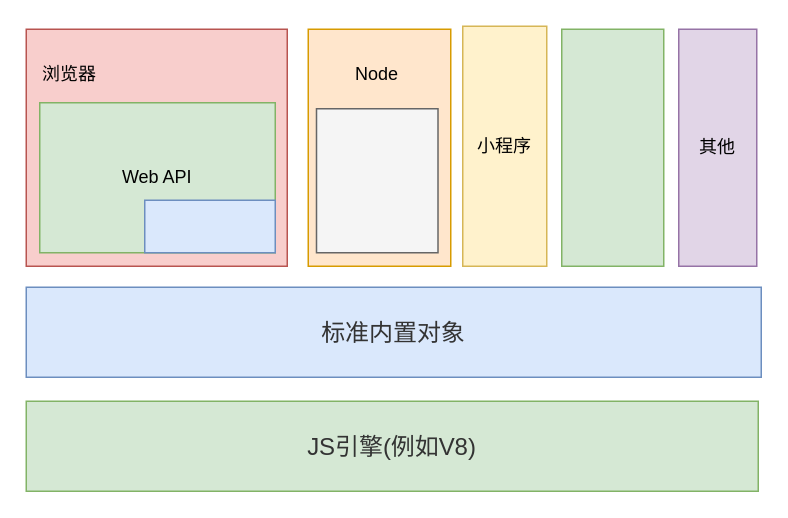
This 788x518 diagram has some shape labels left out. The shapes that lost their labels are listed below. From the top down, each one's centre as x and y in pixels, then its label:
At (x=612, y=147): "ReactNative".
At (x=376, y=180): "Node API".
At (x=209, y=226): "Worker".
